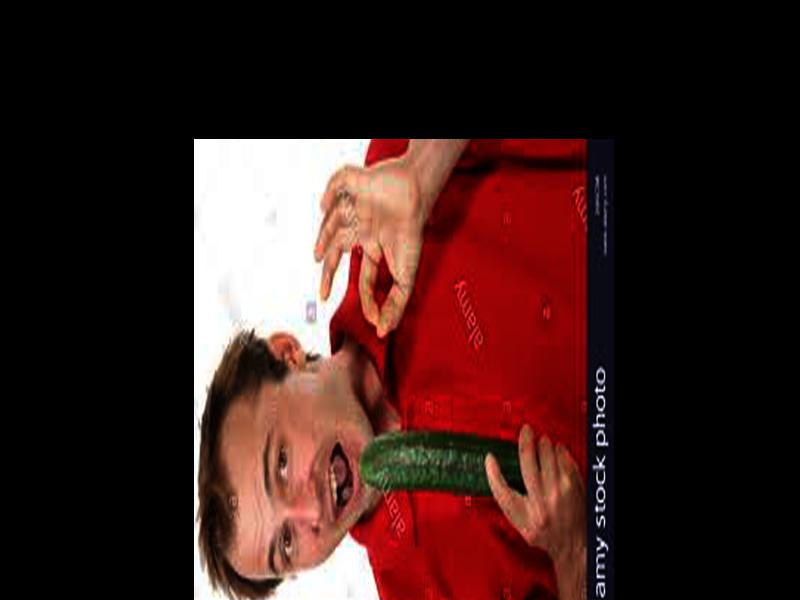Cucumber: (360, 439, 522, 489)
